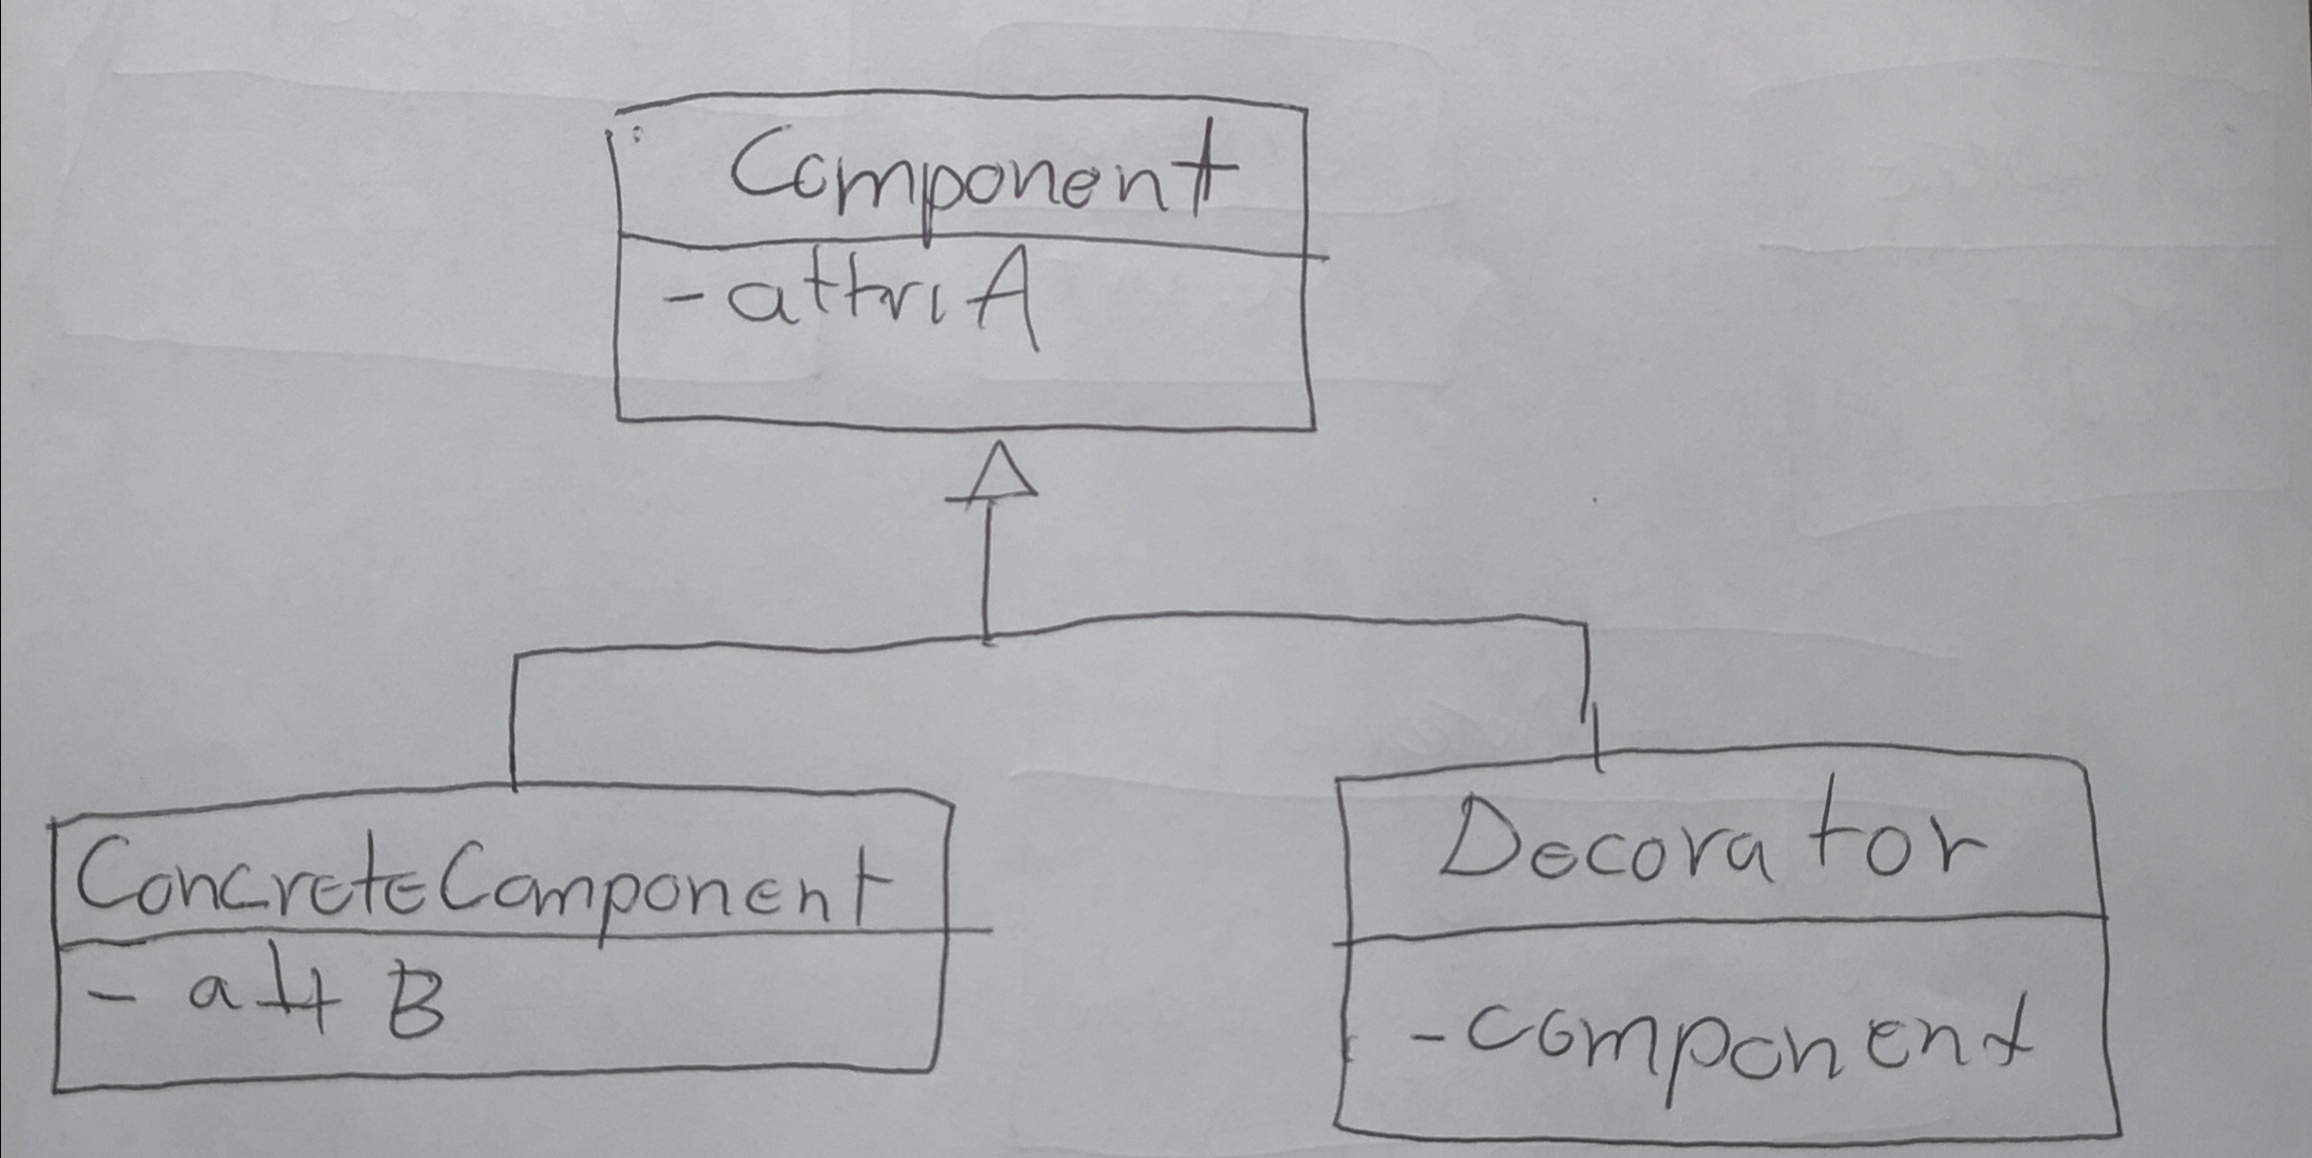class attributes: (1328, 738, 2130, 1152), (44, 781, 952, 1099), (601, 83, 1328, 442)
inheritance: (489, 418, 1611, 797)
